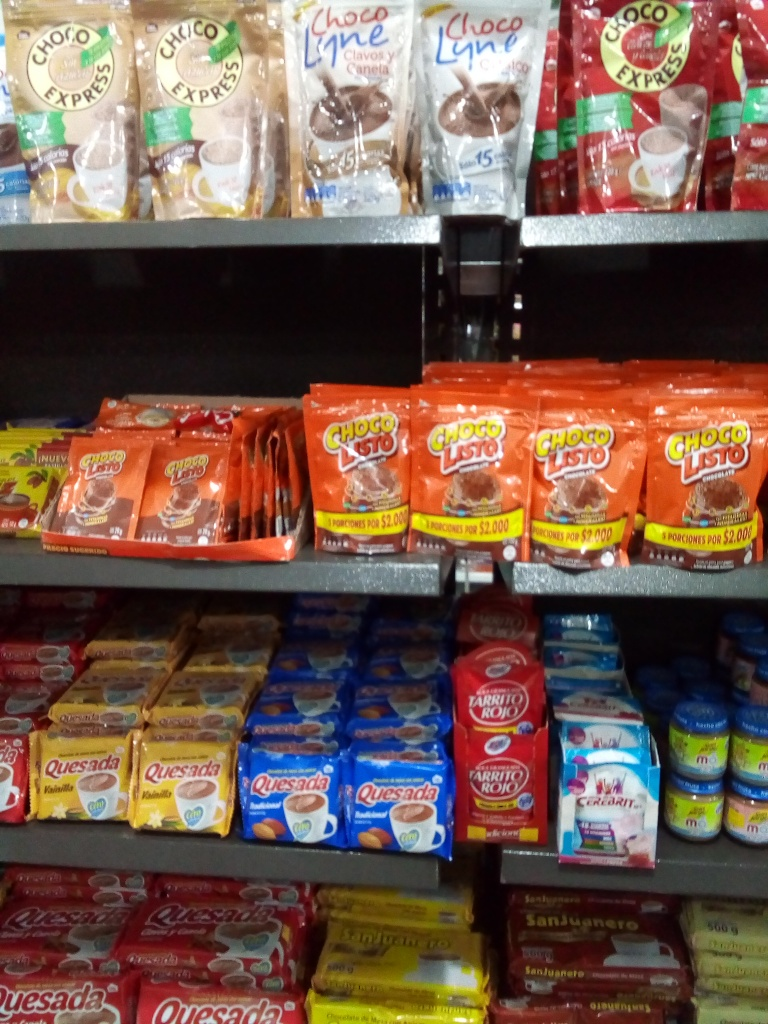COL0170103SOB02000: (139, 434, 228, 548)
